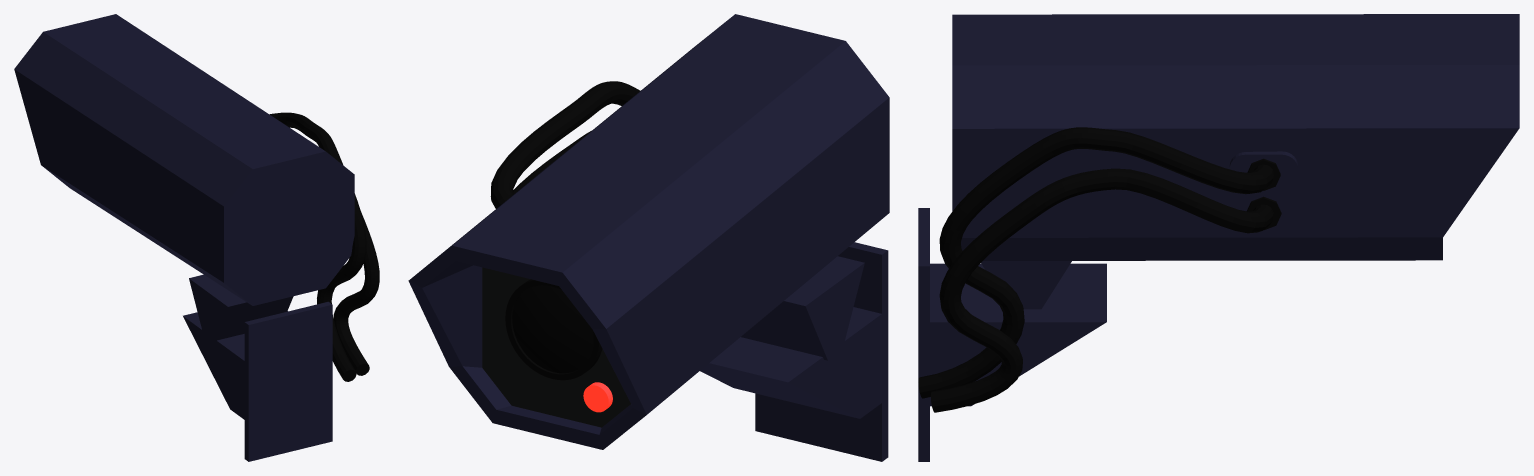
Rendered from security-camera.fbx.
3 views of the same model, side by side, from view 1: azimuth 30°, elevation 25°; view 2: azimuth 150°, elevation 25°; view 3: azimuth 270°, elevation 25° (orthographic). The views are drawn at different scales.
Parts seen in each view (by area): view 1: Cube; view 2: Cube; view 3: Cube.
Part boxes in pixels (left/top/right/bottom): Cube: left=14, top=14, right=379, bottom=461; Cube: left=408, top=14, right=889, bottom=461; Cube: left=918, top=14, right=1519, bottom=461.
Bounding box in the file's own units: 39.51 × 60 × 81.69.
